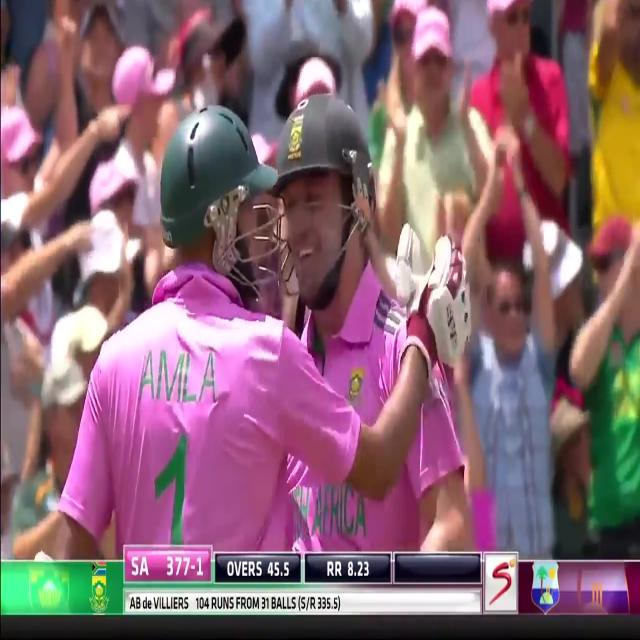Ball: (64, 99, 302, 559)
